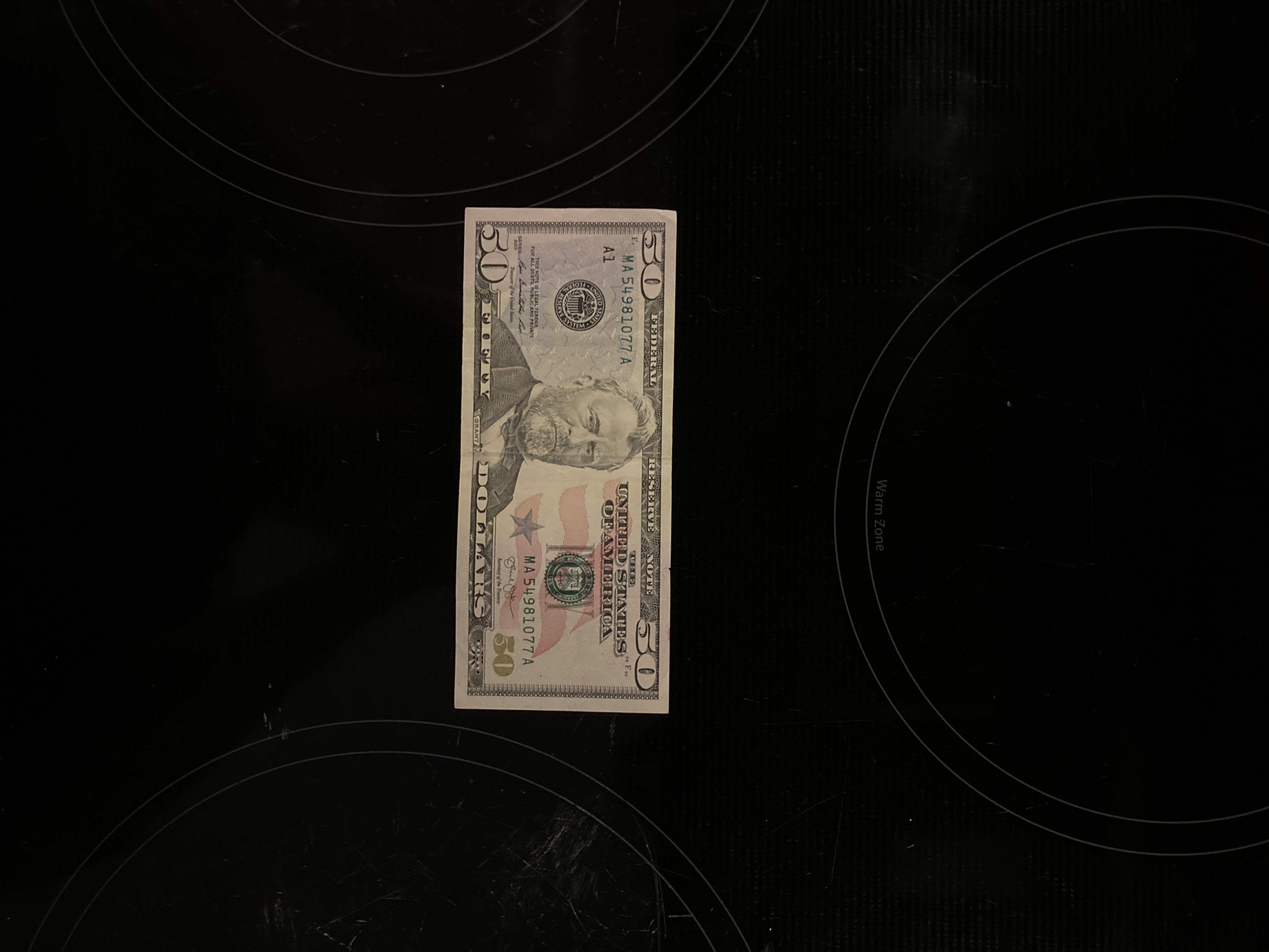fifty-front: (454, 206, 680, 717)
